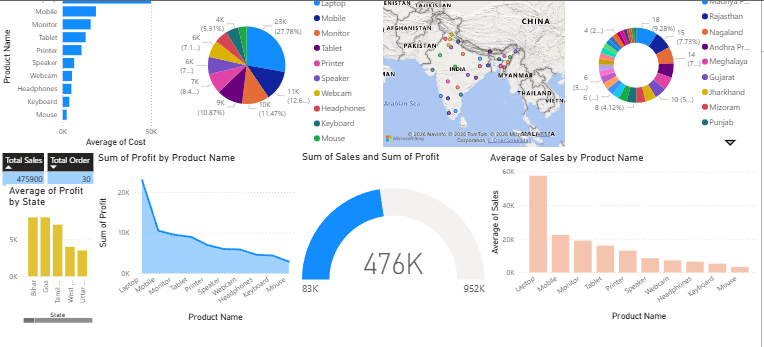

The page's visual inventory and layout, read from the dashboard file:
{"tool":"powerbi","page":{"name":"Page 1","canvas":[1280,720],"ordinal":0},"visuals":[{"type":"clusteredBarChart","fields":{"Y":["Avg(Sheet1.Cost)"],"Category":["Sheet1.Product Name"]},"box":[0,0,300,306],"z":0},{"type":"pieChart","fields":{"Y":["Sum(Sheet1.Profit)"],"Category":["Sheet1.Product Name"]},"box":[299,0,341,305.7],"z":1000},{"type":"map","fields":{"Series":["Sheet1.Product Name"],"Category":["Sheet1.State"]},"box":[640,0,315.8,305.7],"z":2000},{"type":"donutChart","fields":{"Y":["Sum(Sheet1.Quantity)"],"Category":["Sheet1.State"]},"box":[955.8,0,324.2,305.7],"z":3000},{"type":"tableEx","fields":{"Values":["Sheet1.Total Sales"]},"box":[0,305,101.7,85],"z":4000},{"type":"tableEx","fields":{"Values":["Sheet1.Total Order"]},"box":[75,305,196.7,293.3],"z":5000},{"type":"lineChart","fields":{"Y":["Sum(Sheet1.Profit)"],"Category":["Sheet1.Product Name"]},"box":[161.7,306.7,341.7,291.7],"z":6000},{"type":"clusteredColumnChart","fields":{"Category":["Sheet1.State"],"Y":["Avg(Sheet1.Profit)"]},"box":[12,362,150,238],"z":7000},{"type":"gauge","fields":{"Y":["Sum(Sheet1.Sales)"],"MinValue":["Sum(Sheet1.Profit)"]},"box":[503.3,305,316.7,291.7],"z":8000},{"type":"clusteredColumnChart","fields":{"Y":["Avg(Sheet1.Sales)"],"Category":["Sheet1.Product Name"]},"box":[820,306.7,460,290],"z":9000}]}

Visuals, with their boxes on the page's 1280x720 design canvas (x1, y1, x2, y2). These are canvas units, not pixel positions in the 764x347 screenshot, which may show the page scaled, cropped or inside an application window:
clusteredBarChart - Avg(Sheet1.Cost) x Sheet1.Product Name: (0,0,300,306)
pieChart - Sum(Sheet1.Profit) x Sheet1.Product Name: (299,0,640,306)
map - Sheet1.Product Name x Sheet1.State: (640,0,956,306)
donutChart - Sum(Sheet1.Quantity) x Sheet1.State: (956,0,1280,306)
tableEx - Sheet1.Total Sales: (0,305,102,390)
tableEx - Sheet1.Total Order: (75,305,272,598)
lineChart - Sum(Sheet1.Profit) x Sheet1.Product Name: (162,307,503,598)
clusteredColumnChart - Sheet1.State x Avg(Sheet1.Profit): (12,362,162,600)
gauge - Sum(Sheet1.Sales) x Sum(Sheet1.Profit): (503,305,820,597)
clusteredColumnChart - Avg(Sheet1.Sales) x Sheet1.Product Name: (820,307,1280,597)
